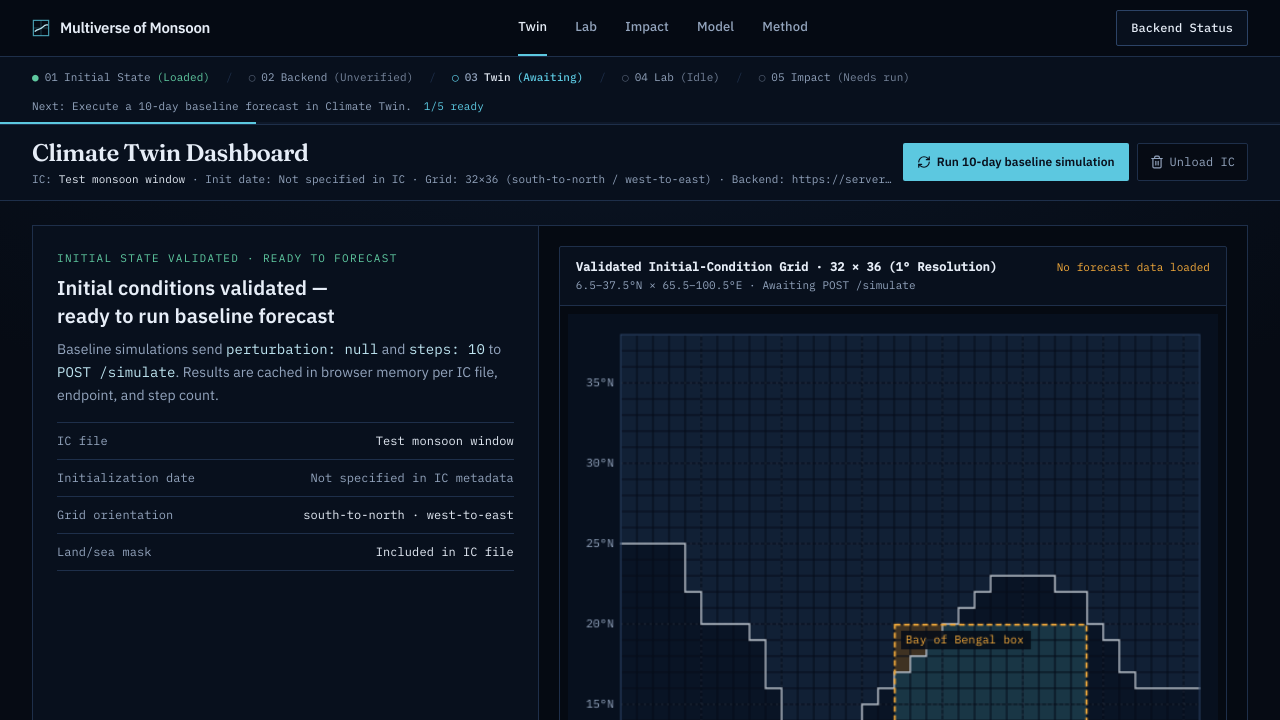
Phase 2A Climate Twin Dashboard (/twin) › shows honest backend error without substituting synthetic data when backend fails
The width and height of the screenshot is (1280, 720).
Earlier steps of the test are not shown.
Click the button "Run 10-day baseline simulation": point(1016, 162) [903,143,1129,181]
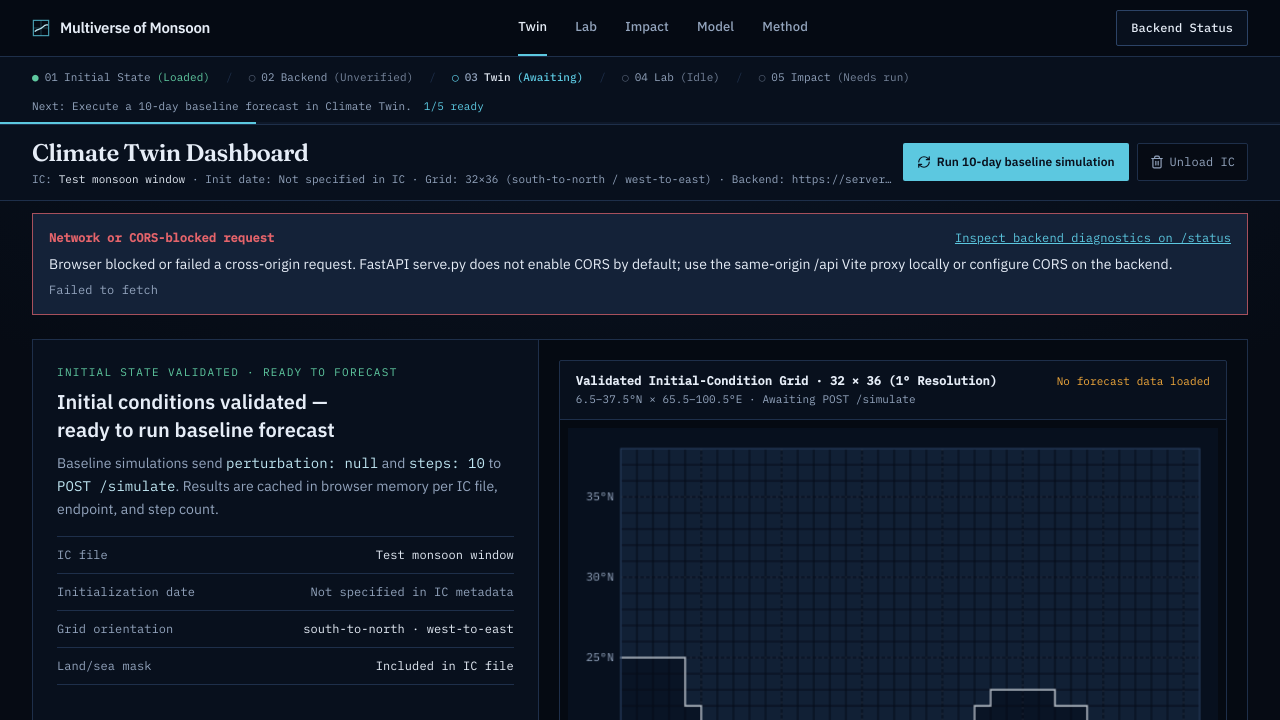
Result: the message with test id "simulation-error-banner" is shown at [32,212,1248,314]
